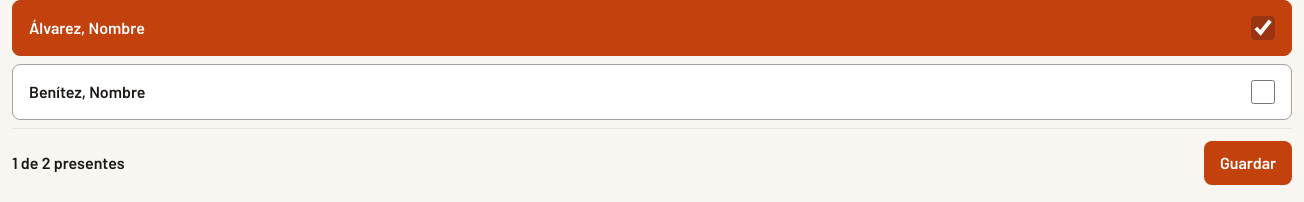
Test case: AttendanceList › tocar un jugador actualiza el contador y avisa que hay cambios sin guardar
This screenshot has width=1304, height=202.
Click the checkbox labelled "Benítez, Nombre": point(1263, 92) x1=1251 y1=80 x2=1275 y2=104
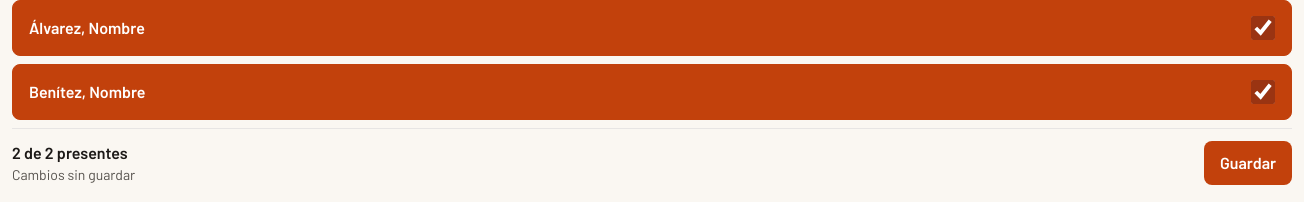
Result: the text "2 de 2 presentes" is shown at x1=12 y1=143 x2=128 y2=162
Result: the text "Cambios sin guardar" is shown at x1=12 y1=165 x2=135 y2=185
